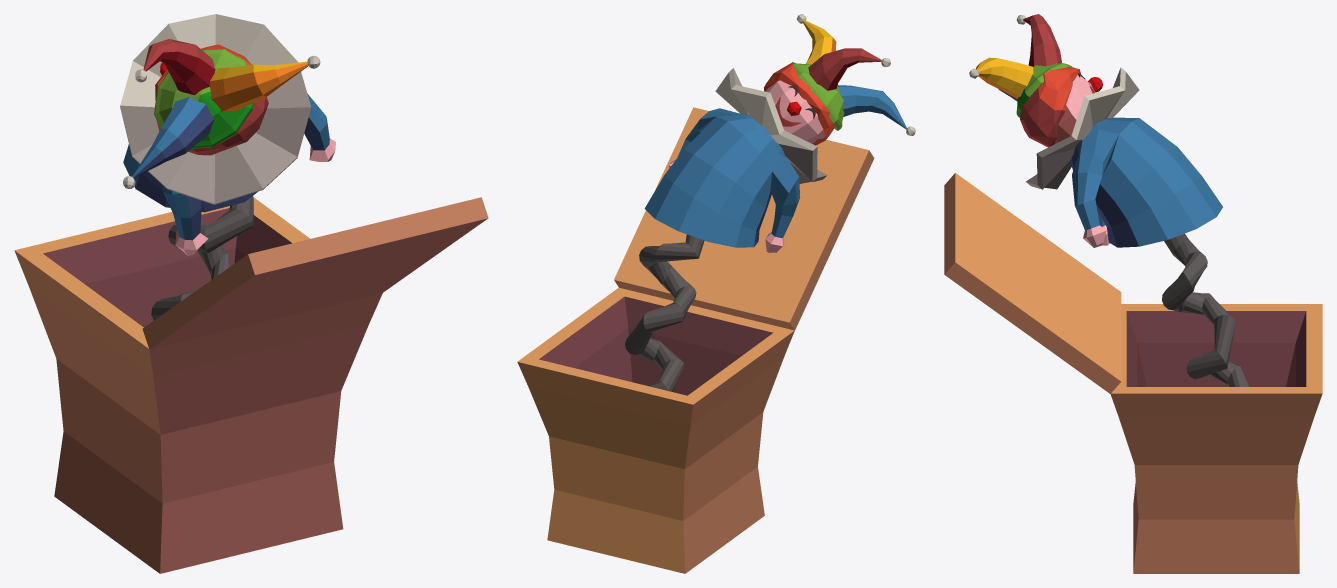
File: Pagliaccio.fbx
3 views of the same model, side by side, from view 1: azimuth 30°, elevation 25°; view 2: azimuth 150°, elevation 25°; view 3: azimuth 270°, elevation 25° (orthographic). The views are drawn at different scales.
Visible parts, largest first — view 1: Cube.009; view 2: Cube.009; view 3: Cube.009.
Part boxes in pixels (box(x1,y1,x2,y2)): Cube.009: box(14, 14, 488, 573); Cube.009: box(517, 14, 915, 573); Cube.009: box(944, 14, 1322, 573).
Bounding box in the file's own units: 63.57 × 110 × 81.1.
